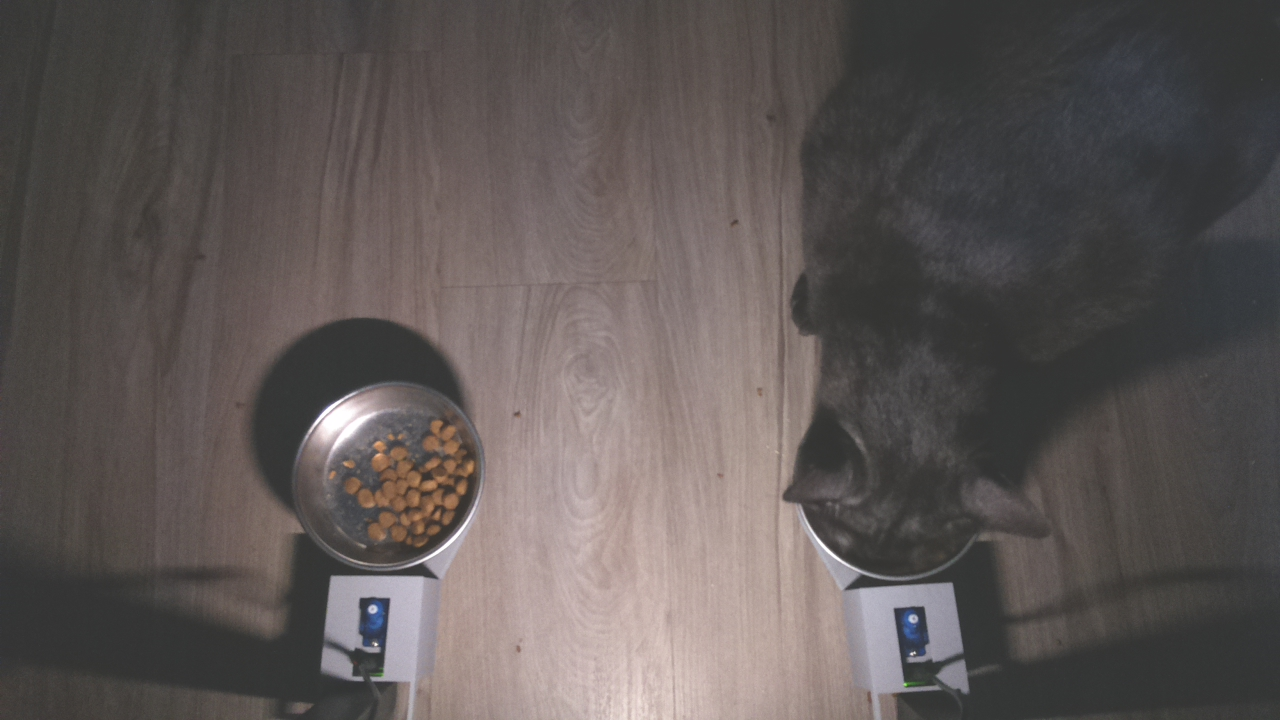open_bowl: (282, 368, 491, 575)
saki_eating: (758, 347, 1077, 577)
